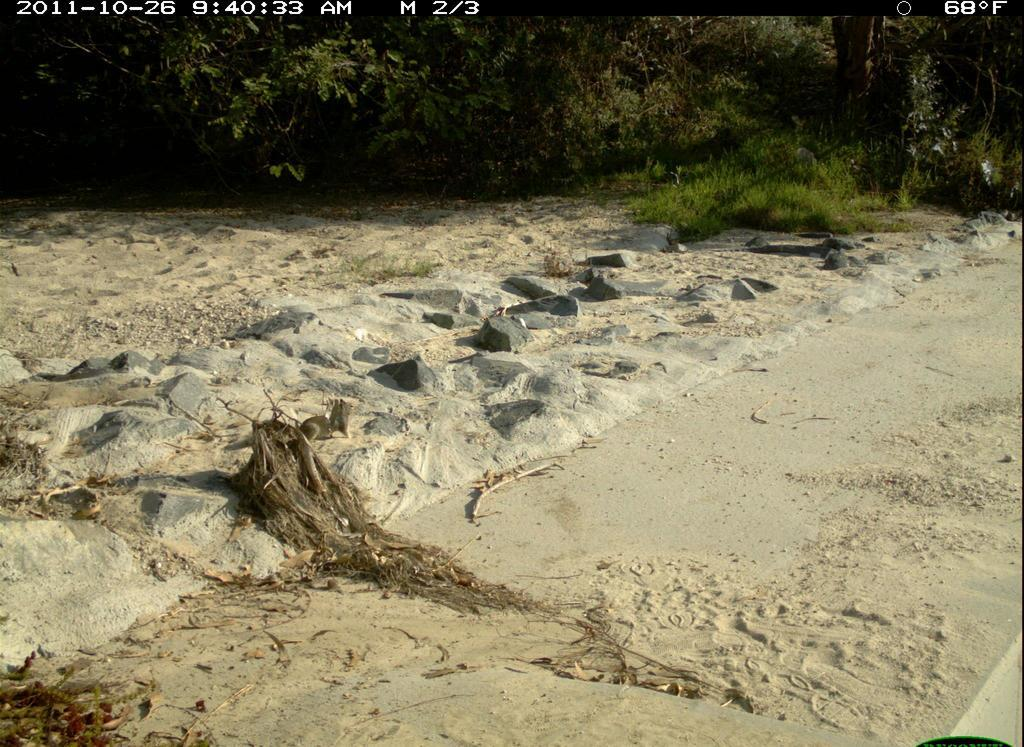squirrel: (292, 399, 365, 446)
